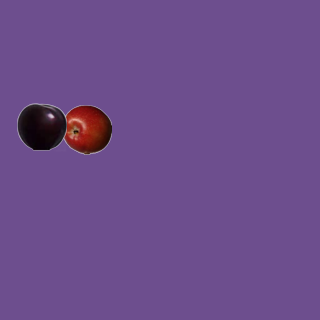Apple Braeburn: (61, 104, 111, 154)
Cherry Wax Black: (16, 101, 66, 151)
